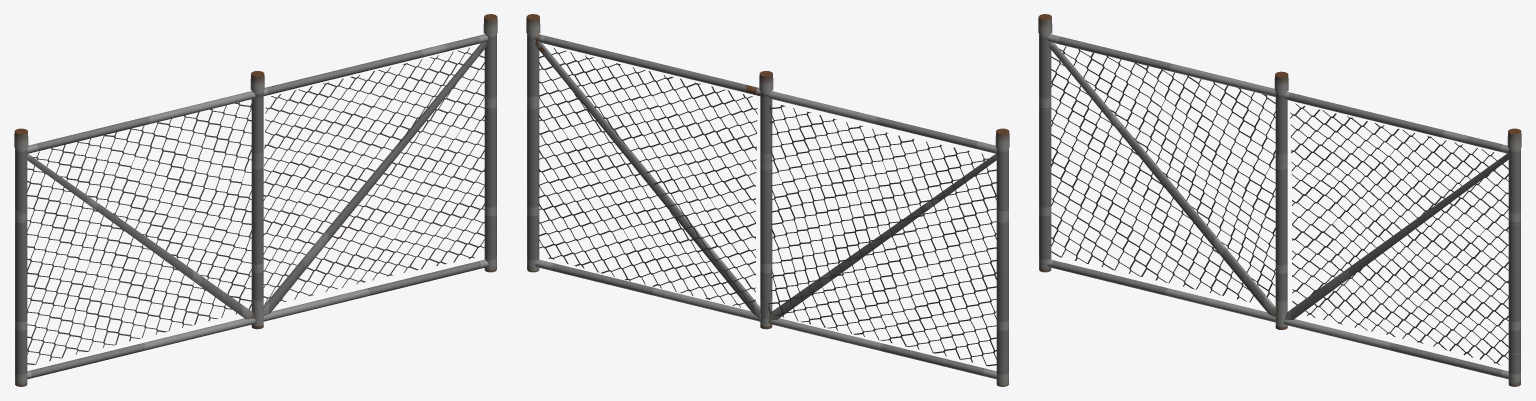
3 renders of one model, left to right at view 1: azimuth 30°, elevation 25°; view 2: azimuth 150°, elevation 25°; view 3: azimuth 330°, elevation 25°, orthographic.
Parts seen in each view (by area): view 1: body0_model0_lod0_mesh0, body0_model0_lod0_mesh1; view 2: body0_model0_lod0_mesh1, body0_model0_lod0_mesh0; view 3: body0_model0_lod0_mesh0, body0_model0_lod0_mesh1.
Part boxes in pixels (x1=…): body0_model0_lod0_mesh0: x1=14, y1=14, x2=497, y2=386; body0_model0_lod0_mesh1: x1=27, y1=47, x2=484, y2=364; body0_model0_lod0_mesh1: x1=538, y1=48, x2=996, y2=366; body0_model0_lod0_mesh0: x1=526, y1=14, x2=1009, y2=386; body0_model0_lod0_mesh0: x1=1038, y1=14, x2=1521, y2=386; body0_model0_lod0_mesh1: x1=1051, y1=46, x2=1508, y2=364.
Bounding box in the file's own units: 255 × 128 × 7.91.
Materials: 2 (2 with a texture image).
